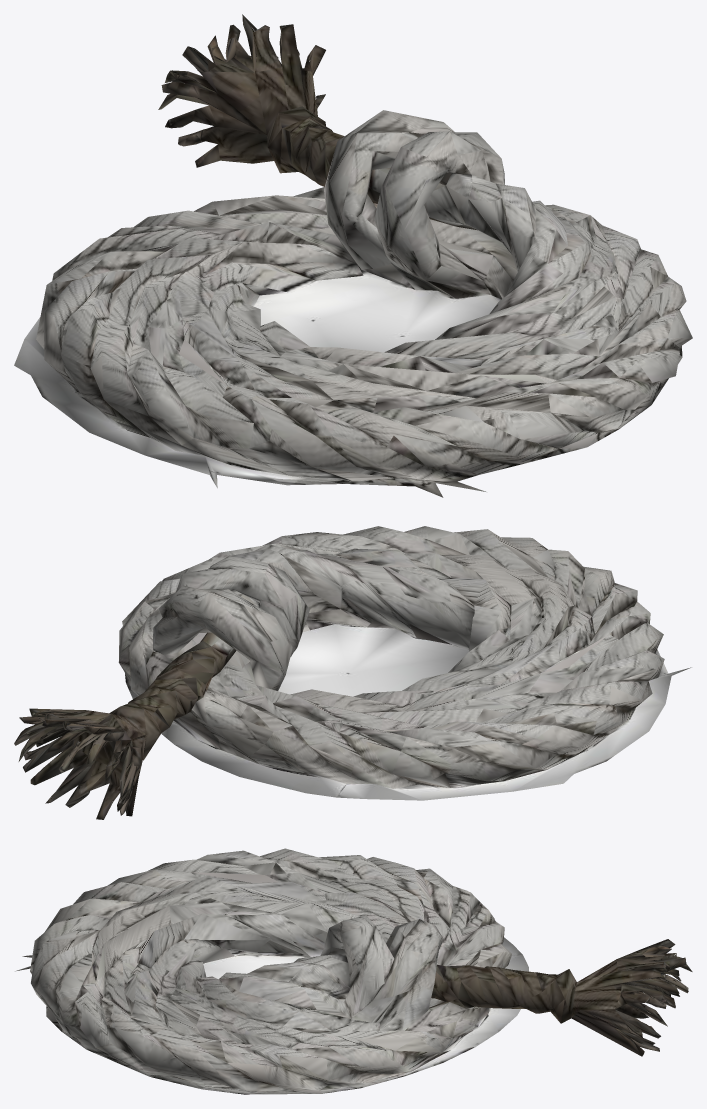
File: lhi_rope_coil.glb
3 views of the same model, one above another, from view 1: azimuth 30°, elevation 25°; view 2: azimuth 150°, elevation 25°; view 3: azimuth 270°, elevation 25° (orthographic). The views are drawn at different scales.
Parts seen in each view (by area): view 1: material; view 2: material; view 3: material.
Boxes of the visible parts, x1,y1,x2,y2 form: material: (14,14,692,497); material: (14,526,691,819); material: (15,848,692,1094).
Size of the model in its own units: 0.8424 by 0.2272 by 1.12.
Materials: 1 (1 with a texture image).
